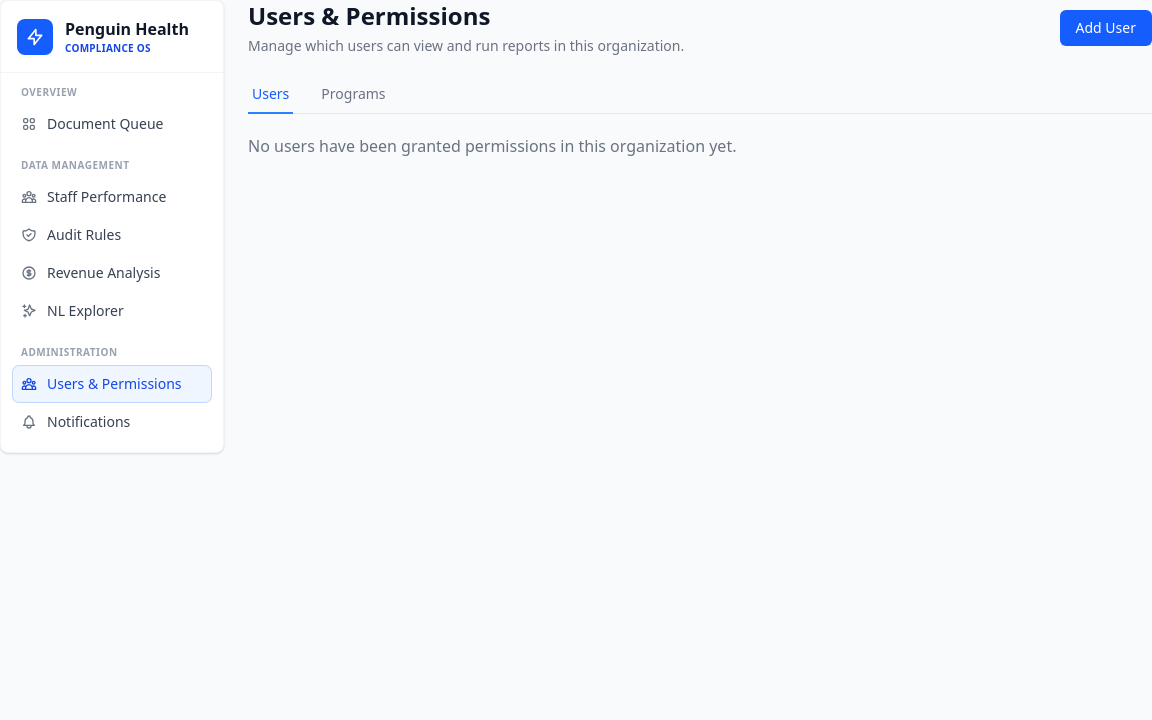
Test: UsersPage › program permissions › shows the empty-list hint when the org has no programs configured yet
The width and height of the screenshot is (1152, 720).
Expected: the text "No users have been granted permissions" is shown, [248,135,736,157]
Click the button "Add User". click: (1106, 28)
box: [1060,10,1151,46]
(page scrolled)
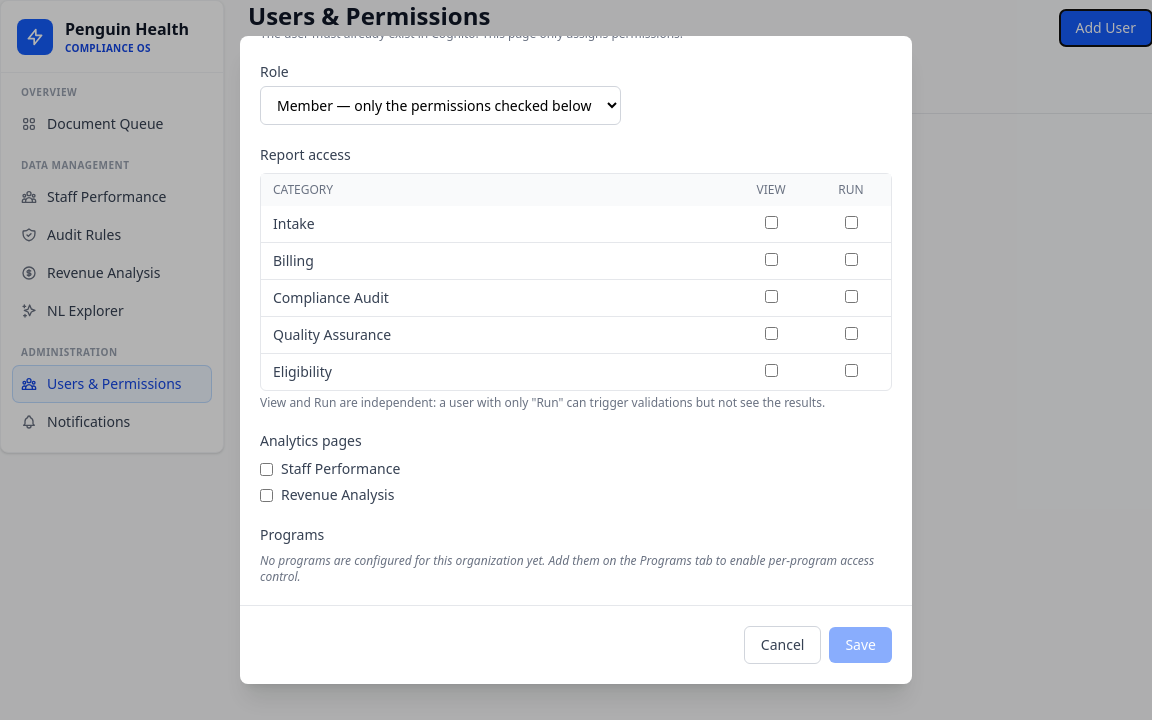
Expected: the text "No programs are configured for this organization" is shown, [260,552,874,585]
